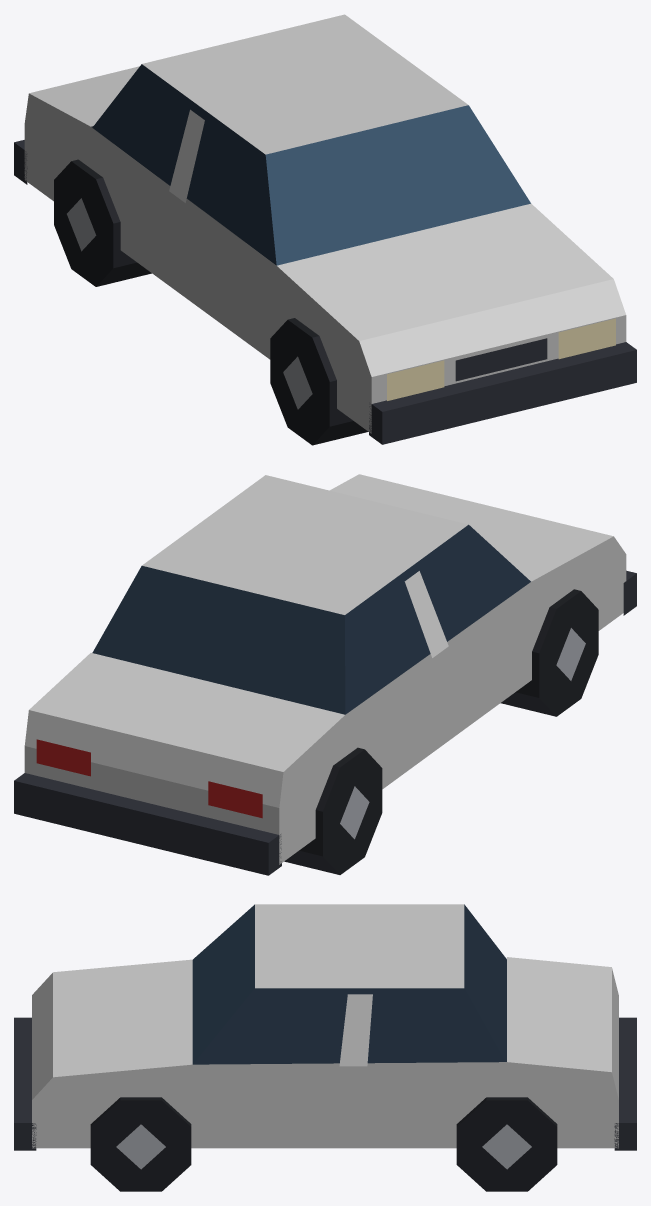
File: prop_car_sedan.glb
3 renders of one model, top to bottom at view 1: azimuth 30°, elevation 25°; view 2: azimuth 150°, elevation 25°; view 3: azimuth 270°, elevation 25°, orthographic. The views are drawn at different scales.
Parts seen in each view (by area): view 1: prop_car_sedan; view 2: prop_car_sedan; view 3: prop_car_sedan.
Boxes of the visible parts, left/top/right/bottom form: prop_car_sedan: left=14, top=14, right=636, bottom=445; prop_car_sedan: left=14, top=474, right=636, bottom=875; prop_car_sedan: left=14, top=904, right=636, bottom=1191.
Size of the model in its own units: 1.91 by 1.5 by 4.46.
